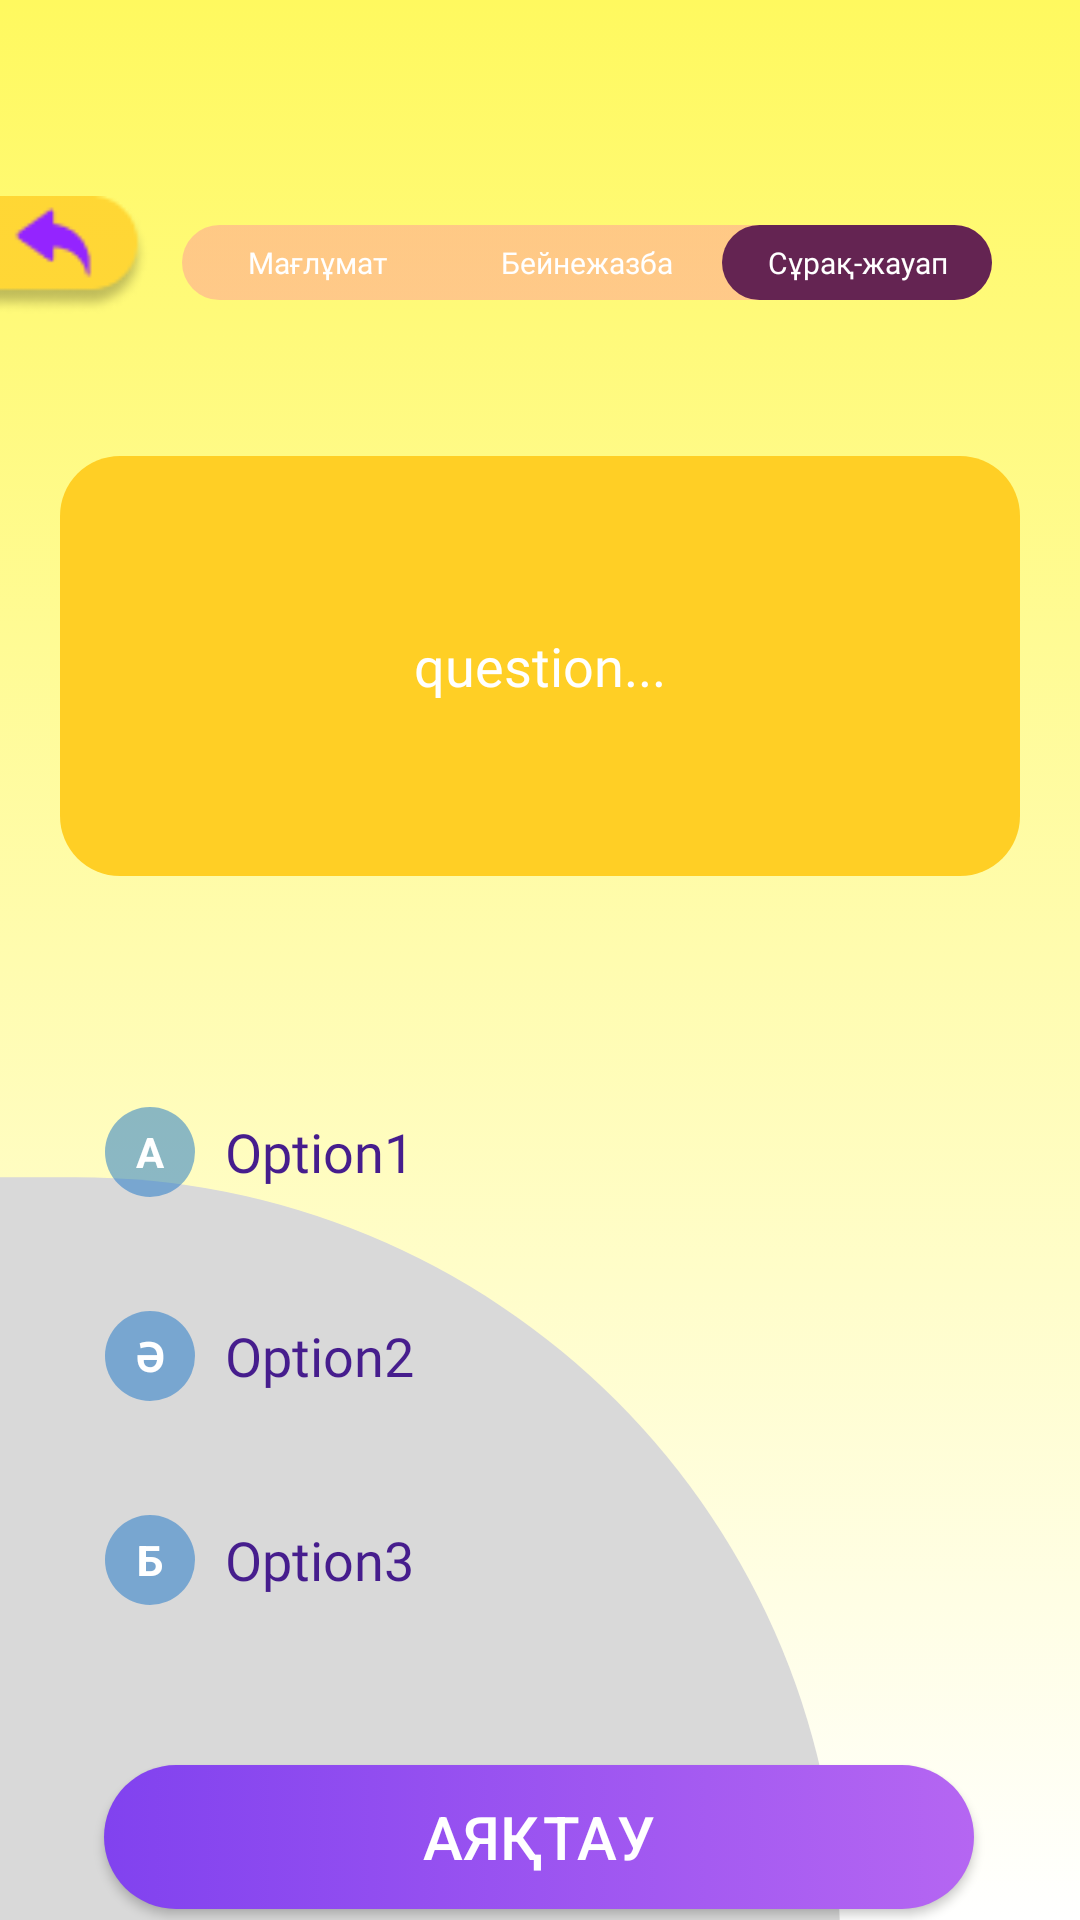

Icon bounding boxes for this 1080x1920 phone screenshot, format (x1, y1, x2, y2):
back: (0, 196, 139, 304)
